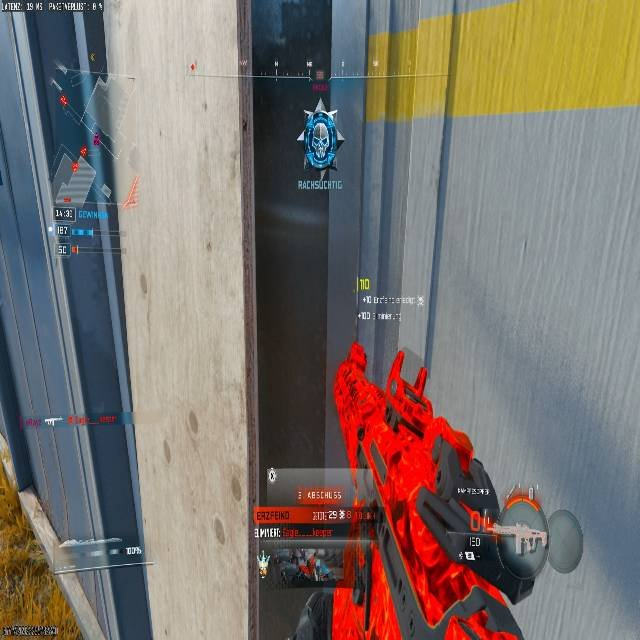player: (296, 103, 345, 187)
